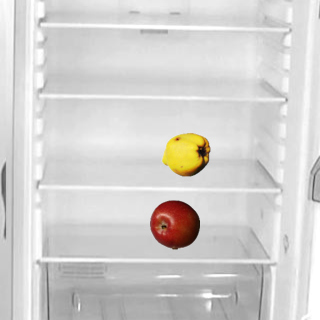Apple Braeburn: (149, 199, 199, 249)
Quince: (160, 129, 210, 179)
